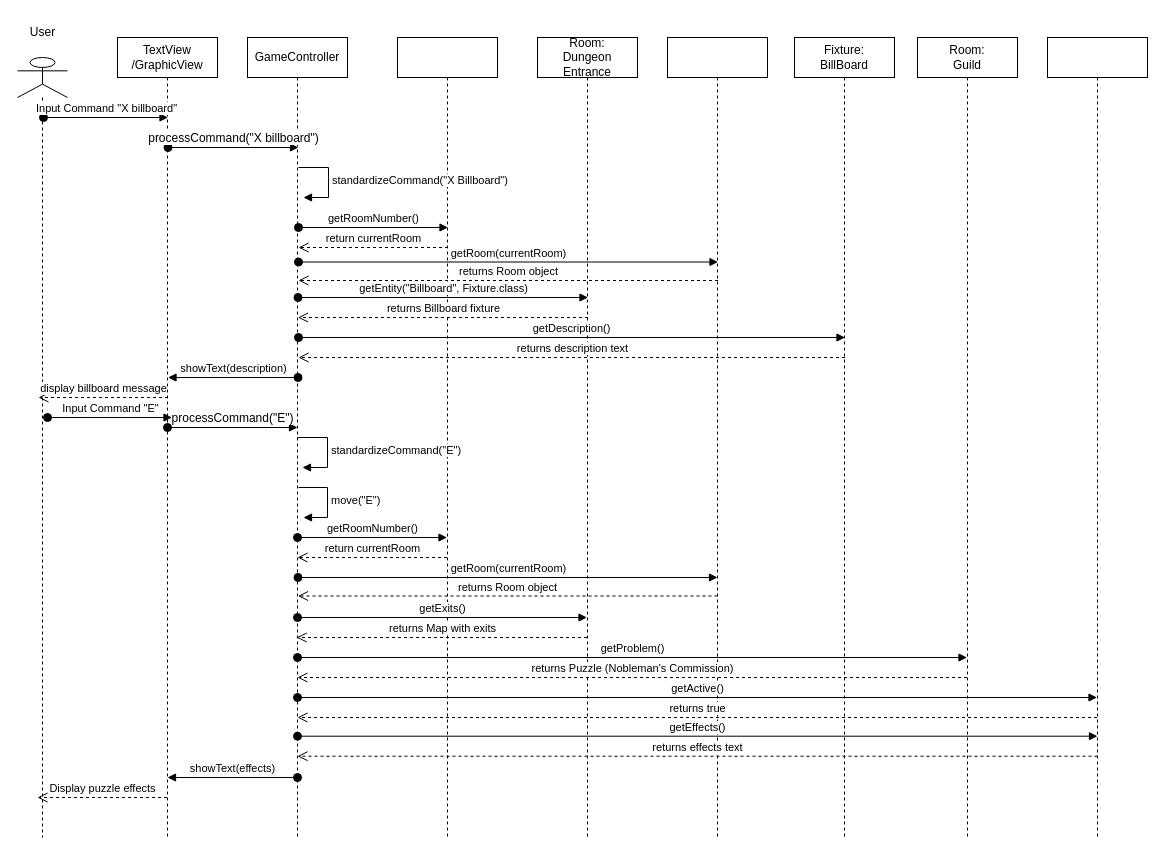
This 1165x855 diagram has some shape labels left out. Each missing label, with the box of its shape:
GameWorld: (666, 36, 768, 838)
Player: (396, 36, 498, 838)
Puzzle: Nobleman's Commission: (1046, 36, 1148, 838)
